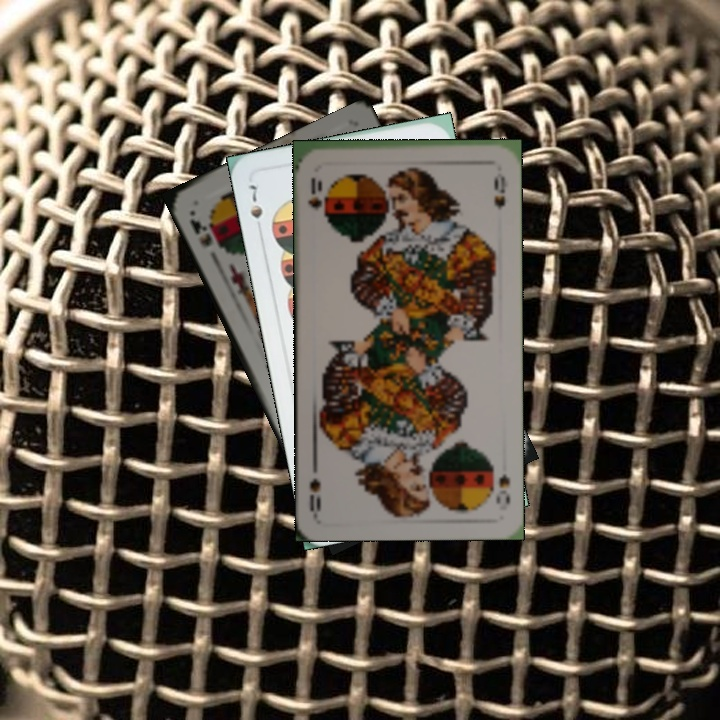S7: (243, 180, 266, 222)
SK: (185, 214, 215, 250)
SO: (303, 173, 327, 219), (492, 470, 512, 507)
